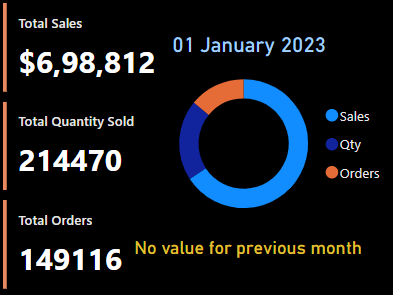

The dashboard page shown, as its layout file describes it:
{"tool":"powerbi","page":{"name":"Tool Tip - Calender Chart","canvas":[320,240],"ordinal":1},"visuals":[{"type":"cardVisual","fields":{"Data":["Transactions.Total Sales","Transactions.Total Quantity Sold","Transactions.Total Orders"]},"box":[0,0,160,240],"z":0},{"type":"donutChart","fields":{"Y":["Transactions.Total Sales","Transactions.Total Quantity Sold","Transactions.Total Orders"]},"box":[128,38,192,159],"z":1000},{"type":"card","fields":{"Values":["Min(Date Table.Date)"]},"box":[96.7,11.7,210,53.3],"z":2000},{"type":"card","fields":{"Values":["Transactions.MoM Growth & Diff Sales"]},"box":[96.2,178.8,210,45],"z":3000}]}

Visuals, with their boxes in screenshot pixels (x1, y1, x2, y2), scaled from the page's 320x240 canvas onto the 393x295 screenshot:
cardVisual - Transactions.Total Sales x Transactions.Total Quantity Sold: l=0, t=0, r=196, b=294
donutChart - Transactions.Total Sales x Transactions.Total Quantity Sold: l=157, t=47, r=392, b=242
card - Min(Date Table.Date): l=119, t=14, r=377, b=80
card - Transactions.MoM Growth & Diff Sales: l=118, t=220, r=376, b=275
